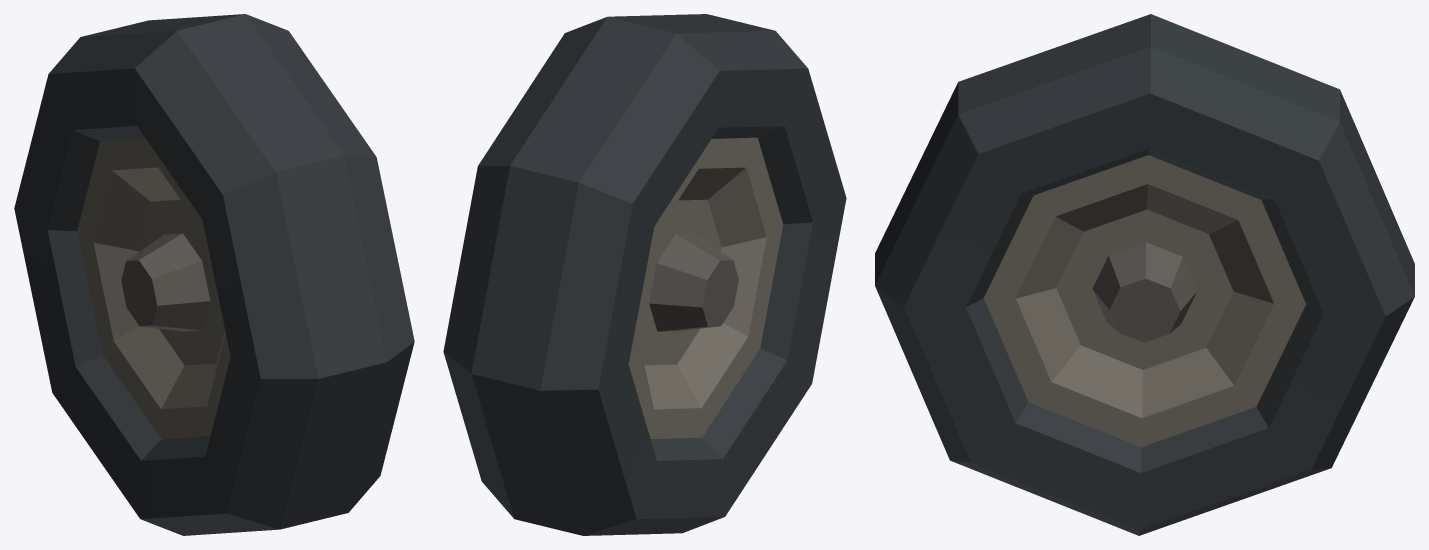
The model's file is SM_Prop_HandTrolley_Wheel_01.obj.
3 renders of one model, left to right at view 1: azimuth 30°, elevation 25°; view 2: azimuth 150°, elevation 25°; view 3: azimuth 270°, elevation 25°, orthographic. The views are drawn at different scales.
Parts seen in each view (by area): view 1: SM_Prop_HandTrolley_Wheel_01_0; view 2: SM_Prop_HandTrolley_Wheel_01_0; view 3: SM_Prop_HandTrolley_Wheel_01_0.
Part boxes in pixels (x1,y1,x2,y2): SM_Prop_HandTrolley_Wheel_01_0: [14, 14, 414, 535]; SM_Prop_HandTrolley_Wheel_01_0: [443, 14, 846, 535]; SM_Prop_HandTrolley_Wheel_01_0: [875, 14, 1414, 535].
Size of the model in its own units: 0.1174 by 0.3652 by 0.3652.
1 material, 1 textured.
